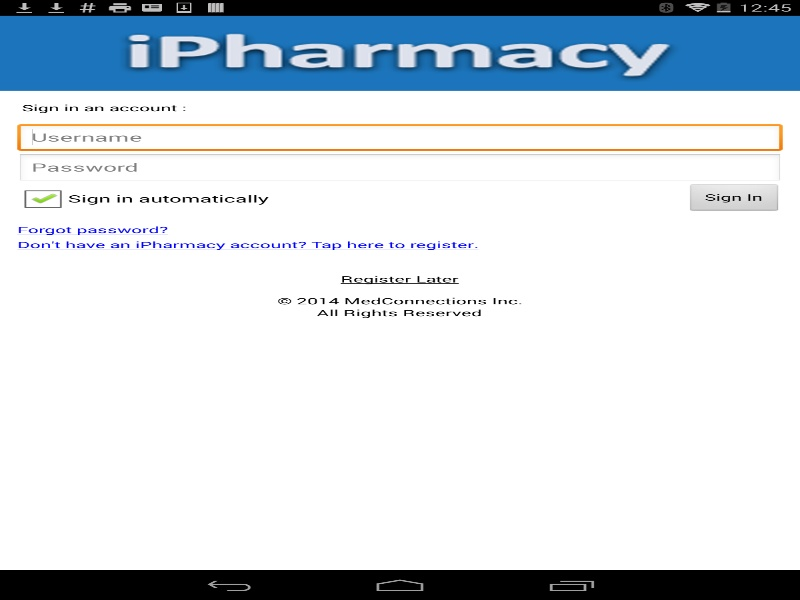Button: (686, 183, 782, 213)
Input: (17, 123, 782, 153), (17, 153, 782, 183)
